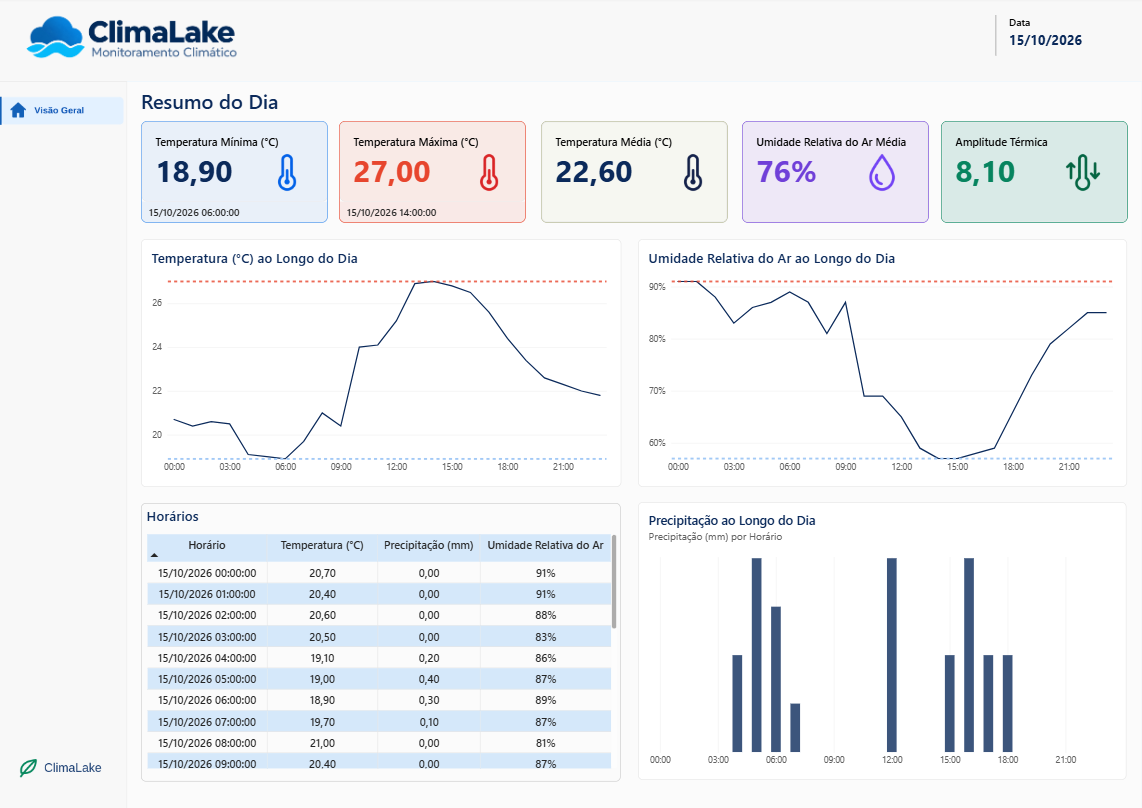

This screenshot's page, from the dashboard's own definition file:
{"tool":"powerbi","page":{"name":"Página 1","canvas":[1830,1300],"ordinal":0},"visuals":[{"type":"shape","box":[0,0,1830,134.6],"z":0,"group":"g1"},{"type":"group","id":"g1","title":"Header","box":[0,0,1830,134.6],"z":0},{"type":"cardVisual","fields":{"Data":["Min(Horários.ingestion_date)"]},"box":[1596,11.4,208,104],"z":0,"group":"g8"},{"type":"shape","box":[203,134,1627.4,1166],"z":0,"group":"g3"},{"type":"shape","title":"Forma","box":[0,134.3,205.4,1166.2],"z":0,"group":"g5"},{"type":"group","id":"g2","title":"Grupo 1","box":[1507.7,198.3,299.5,163.5],"z":0,"group":"g10"},{"type":"image","box":[0,0,434.2,134.6],"z":1000,"group":"g1"},{"type":"shape","box":[1563.5,29.3,63.4,65],"z":1000,"group":"g8"},{"type":"group","id":"g3","title":"Content","box":[203,134,1627.4,1166],"z":1000},{"type":"group","id":"g4","title":"Grupo 2","box":[1189.6,198.3,299.5,163.5],"z":1000,"group":"g10"},{"type":"tableEx","title":"Horários","fields":{"Values":["Horários.horário","Horários.temperatura °c","Horários.precipitação (mm)","Horários.humidade relativa do ar"]},"box":[227.2,809.4,768.2,446.3],"z":1000,"group":"g3"},{"type":"image","box":[26,1170.2,271.4,130],"z":1000,"group":"g5"},{"type":"group","id":"g5","title":"Navbar","box":[0,134.3,297.4,1166.2],"z":2000},{"type":"image","box":[0,138.2,199.9,89.4],"z":2000,"group":"g5"},{"type":"group","id":"g6","title":"Grupo 3","box":[868.4,198.3,299.5,163.5],"z":2000,"group":"g10"},{"type":"lineChart","title":"Temperatura (°C) ao Longo do Dia","fields":{"Category":["Horários.horário"],"Y":["Sum(Horários.temperatura °c)"]},"box":[226.9,386.8,768.9,397.1],"z":2000,"group":"g3"},{"type":"textbox","box":[227.3,144,220.9,64],"z":3000,"group":"g3"},{"type":"cardVisual","fields":{"Data":["Sum(Indicadores.temperatura mínima °c)"],"Rows":["Indicadores.horário temperatura mínima °c"]},"box":[227.5,198.3,299.5,163.5],"z":3000,"group":"g9"},{"type":"group","id":"g7","title":"Grupo 4","box":[544.1,198.3,299.5,163.5],"z":3000,"group":"g10"},{"type":"cardVisual","fields":{"Data":["Sum(Indicadores.temperatura máxima °c)"],"Rows":["Indicadores.horário temperatura máxima °c"]},"box":[544.1,198.3,299.5,163.5],"z":3001,"group":"g7"},{"type":"group","id":"g8","title":"Data","box":[1563.5,11.4,240.5,104],"z":3002,"group":"g1"},{"type":"cardVisual","fields":{"Data":["Sum(Indicadores.temperatura média °c)"]},"box":[868.4,198.3,299.5,163.5],"z":3002,"group":"g6"},{"type":"cardVisual","fields":{"Data":["Min(Indicadores.humidade relativa do ar média)"]},"box":[1189.6,198.3,299.5,163.5],"z":3003,"group":"g4"},{"type":"cardVisual","fields":{"Data":["Sum(Indicadores.amplitude térmica)"]},"box":[1507.7,198.3,299.5,163.5],"z":3004,"group":"g2"},{"type":"image","box":[424.6,245,74.5,71.6],"z":3005,"group":"g9"},{"type":"image","box":[747.4,245,74.5,71.6],"z":3006,"group":"g7"},{"type":"image","box":[1074.8,245,74.5,71.6],"z":3007,"group":"g6"},{"type":"image","box":[1377.4,245,74.5,71.6],"z":3008,"group":"g4"},{"type":"image","box":[1698.6,245,74.5,71.6],"z":3009,"group":"g2"},{"type":"group","id":"g9","title":"Grupo 5","box":[227.5,198.3,299.5,163.5],"z":4000,"group":"g10"},{"type":"lineChart","title":"Umidade Relativa do Ar ao Longo do Dia","fields":{"Category":["Horários.horário"],"Y":["Sum(Horários.Umidade Decimal)"]},"box":[1022.1,387.5,783.4,396.6],"z":4000,"group":"g3"},{"type":"group","id":"g10","title":"Cards","box":[227.5,198.3,1579.7,163.5],"z":5000,"group":"g3"},{"type":"clusteredColumnChart","title":"Precipitação ao Longo do Dia","fields":{"Category":["Horários.horário"],"Y":["Sum(Horários.precipitação (mm))"]},"box":[1022.1,808.5,781.7,445.3],"z":6000,"group":"g3"}]}

Visuals, with their boxes in screenshot pixels (x1, y1, x2, y2), scaled from the page's 1830x1300 canvas onto the 1142x808 screenshot:
shape: select_region(0, 0, 1141, 84)
"Header" group: select_region(0, 0, 1141, 84)
cardVisual - Min(Horários.ingestion_date): select_region(996, 7, 1126, 72)
shape: select_region(127, 83, 1141, 807)
"Forma" shape: select_region(0, 83, 128, 807)
"Grupo 1" group: select_region(941, 123, 1128, 225)
image: select_region(0, 0, 271, 84)
shape: select_region(976, 18, 1015, 59)
"Content" group: select_region(127, 83, 1141, 807)
"Grupo 2" group: select_region(742, 123, 929, 225)
"Horários" tableEx: select_region(142, 503, 621, 780)
image: select_region(16, 727, 186, 807)
"Navbar" group: select_region(0, 83, 186, 807)
image: select_region(0, 86, 125, 141)
"Grupo 3" group: select_region(542, 123, 729, 225)
"Temperatura (°C) ao Longo do Dia" lineChart: select_region(142, 240, 621, 487)
textbox: select_region(142, 90, 280, 129)
cardVisual - Sum(Indicadores.temperatura mínima °c) x Indicadores.horário temperatura mínima °c: select_region(142, 123, 329, 225)
"Grupo 4" group: select_region(340, 123, 526, 225)
cardVisual - Sum(Indicadores.temperatura máxima °c) x Indicadores.horário temperatura máxima °c: select_region(340, 123, 526, 225)
"Data" group: select_region(976, 7, 1126, 72)
cardVisual - Sum(Indicadores.temperatura média °c): select_region(542, 123, 729, 225)
cardVisual - Min(Indicadores.humidade relativa do ar média): select_region(742, 123, 929, 225)
cardVisual - Sum(Indicadores.amplitude térmica): select_region(941, 123, 1128, 225)
image: select_region(265, 152, 311, 197)
image: select_region(466, 152, 513, 197)
image: select_region(671, 152, 717, 197)
image: select_region(860, 152, 906, 197)
image: select_region(1060, 152, 1106, 197)
"Grupo 5" group: select_region(142, 123, 329, 225)
"Umidade Relativa do Ar ao Longo do Dia" lineChart: select_region(638, 241, 1127, 487)
"Cards" group: select_region(142, 123, 1128, 225)
"Precipitação ao Longo do Dia" clusteredColumnChart: select_region(638, 503, 1126, 779)
